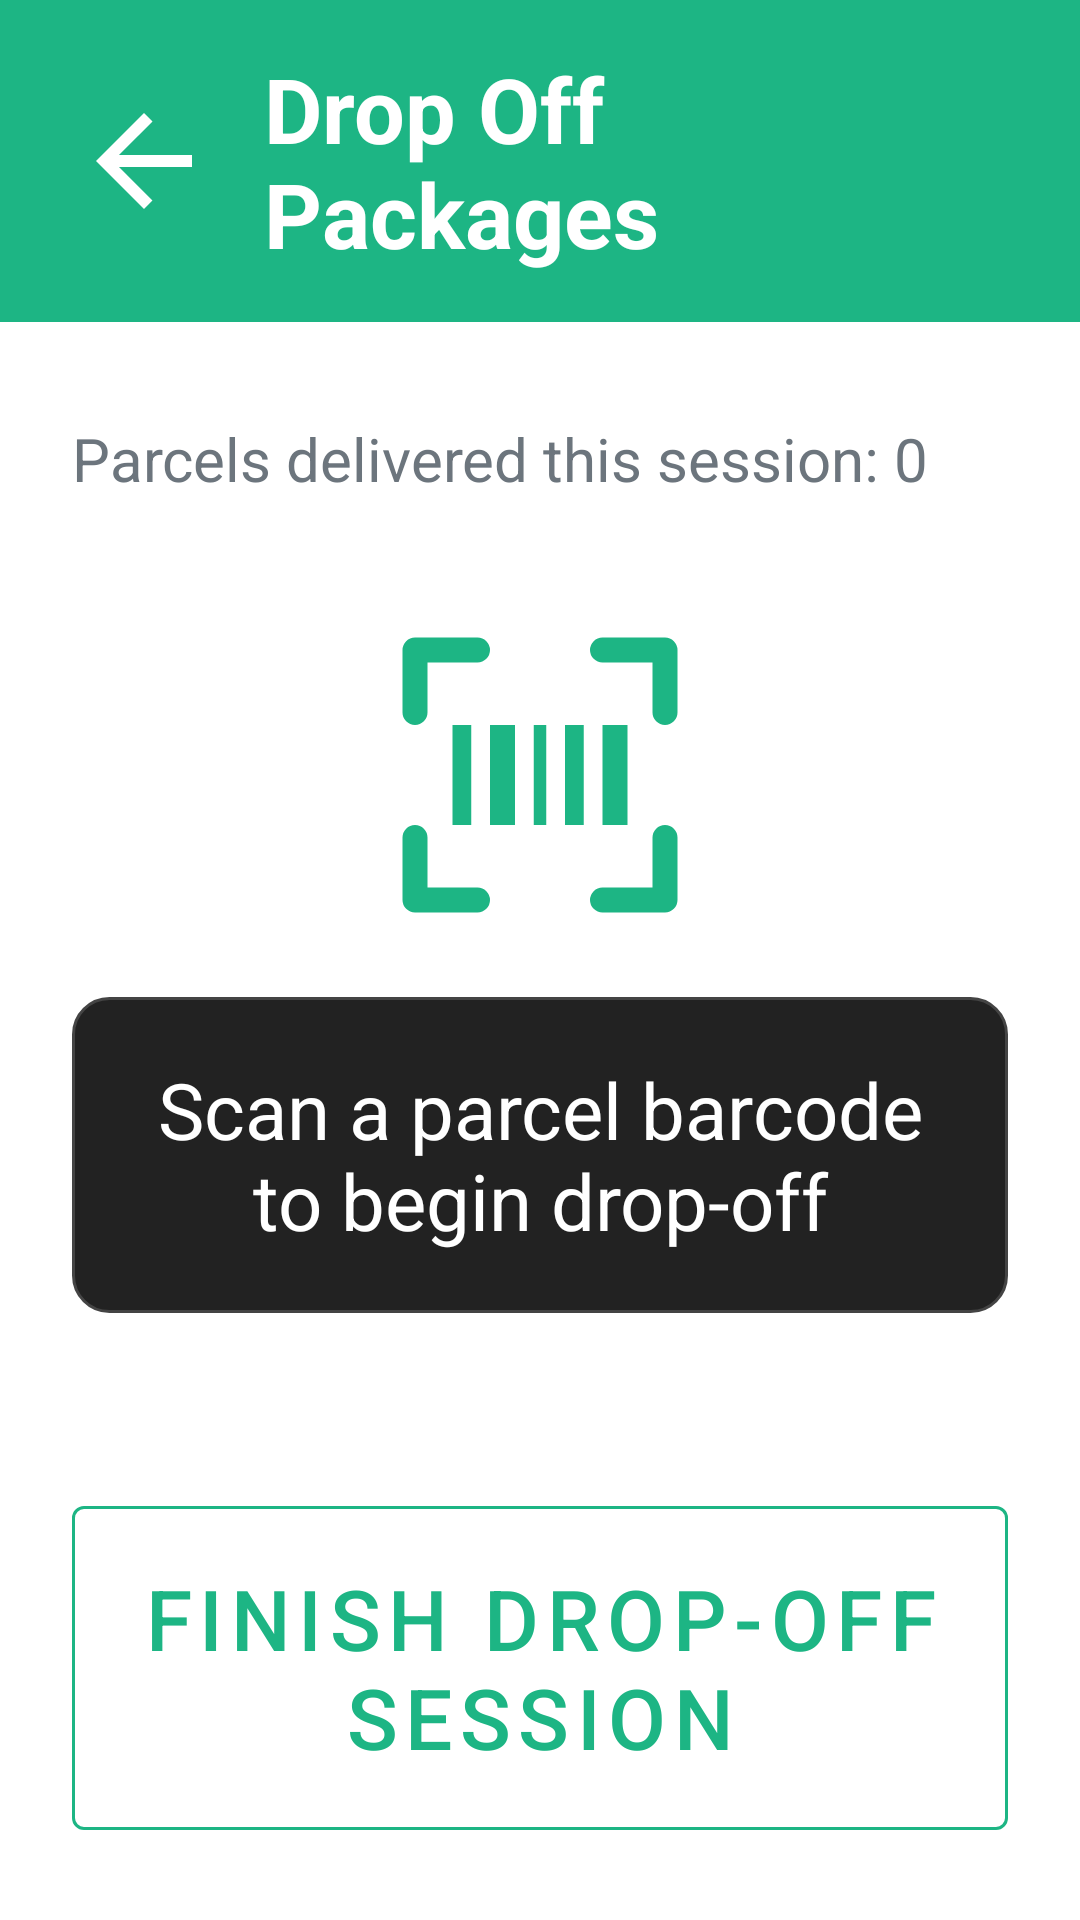

Point at icon controls on the screen. Image size 1080px x 1920px, points as [x,y].
Back: [144,161]
